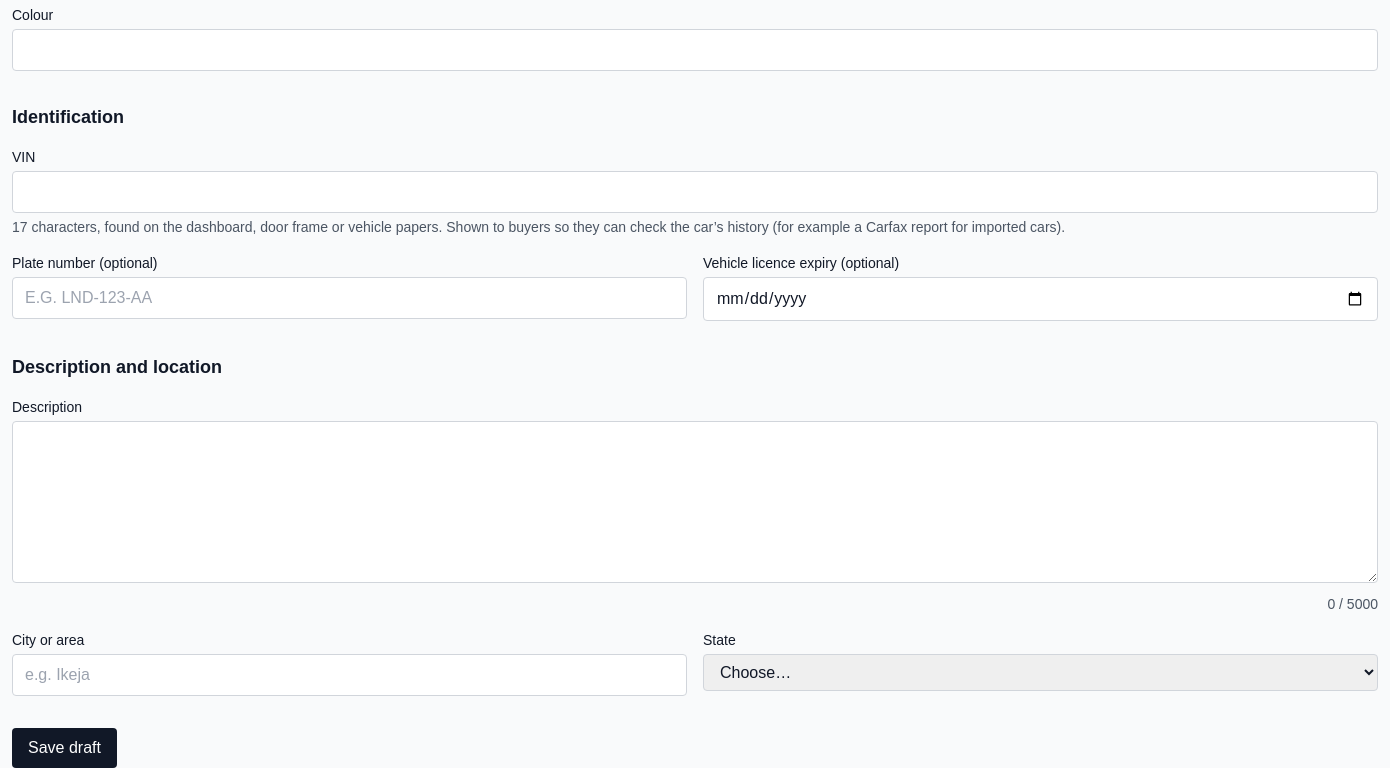
Scenario: ListingForm fields › counts description characters and labels every input
(page scrolled)
Type "Clean" into the text box labelled "Description". click: (695, 502)
box: [12,421,1378,583]
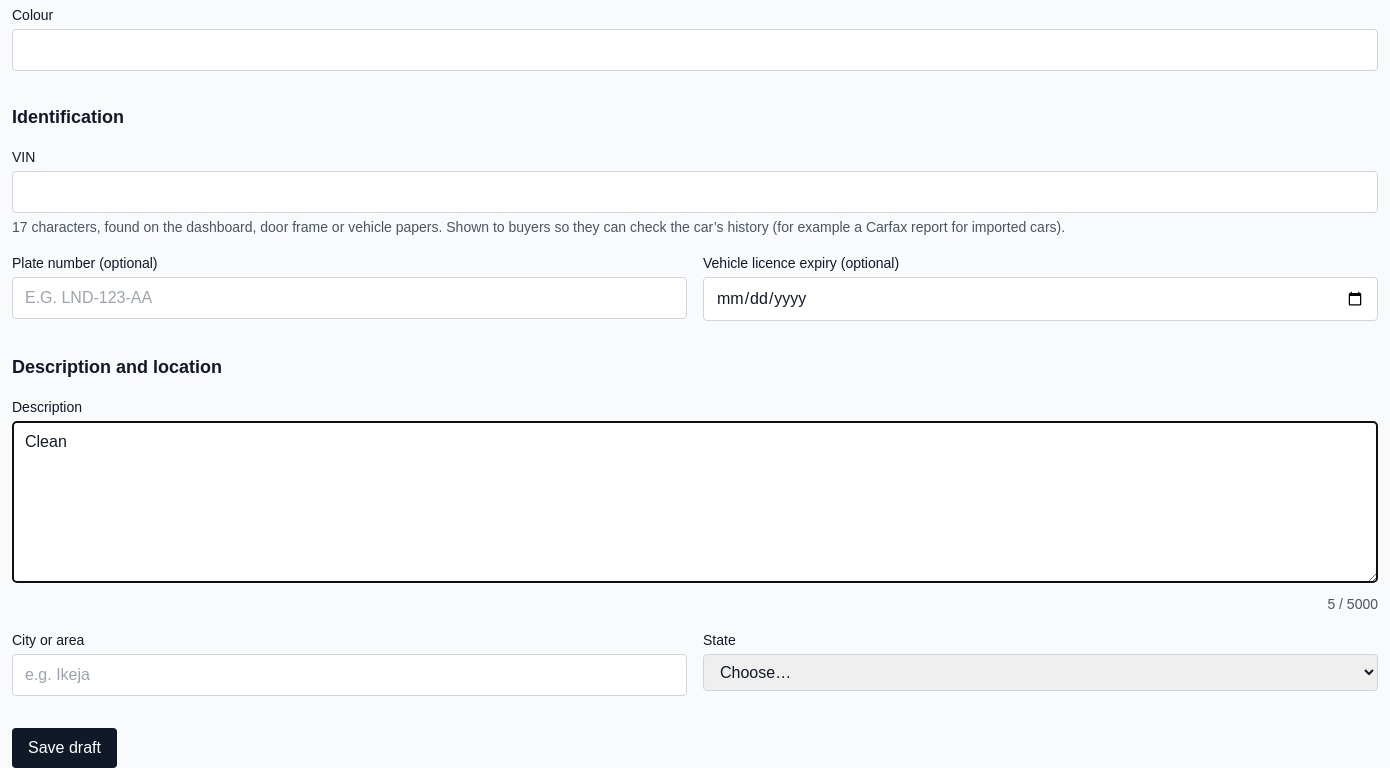
Now the text "5 / 5000" is shown, box [1327,596,1378,612]
